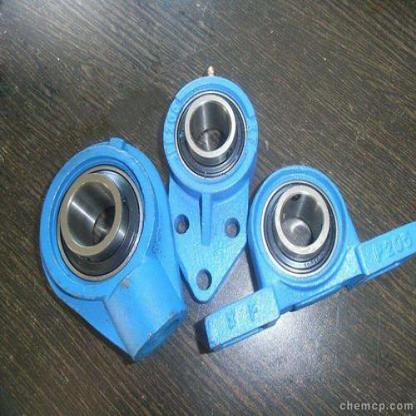FOD: (57, 160, 141, 284), (260, 178, 338, 278), (173, 90, 249, 181)
